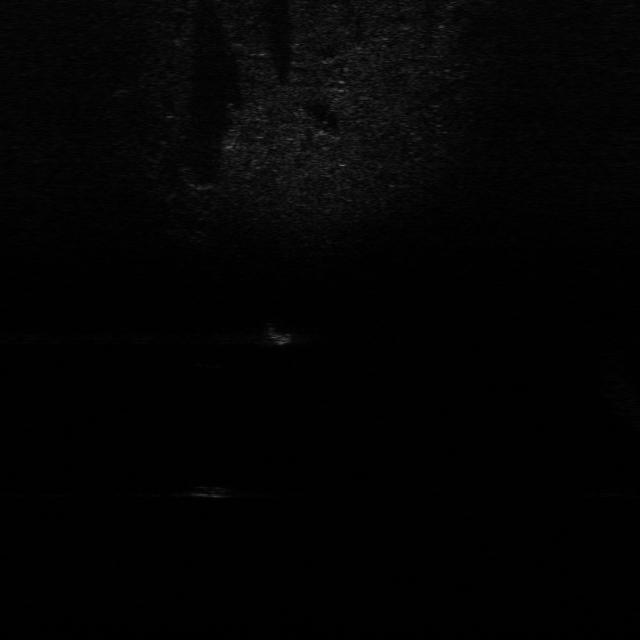cube: (184, 484, 232, 501)
square cage: (260, 320, 296, 348)
